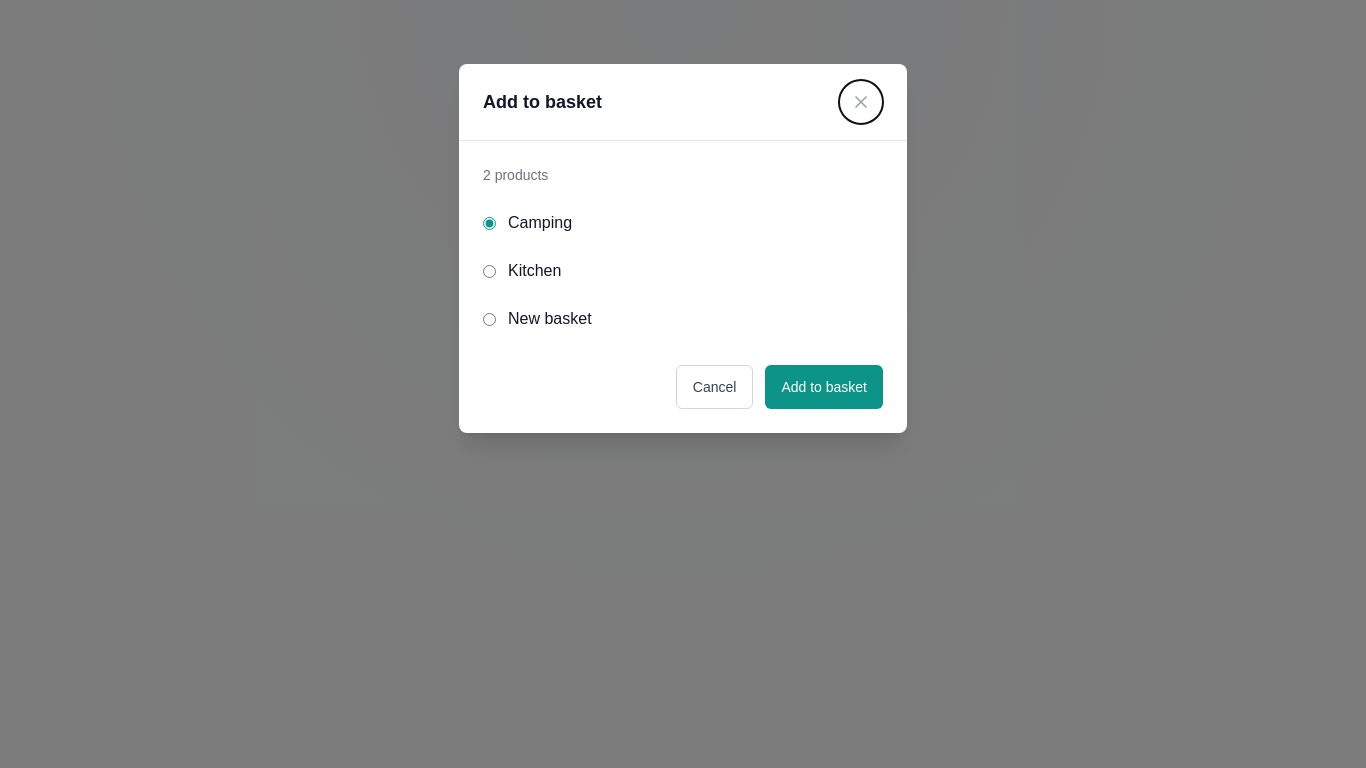
Test: AddToBasketModal › should ask for a name when a new basket has none
Click the radio button labelled "New basket" at (490, 319), box [483,312,496,326]
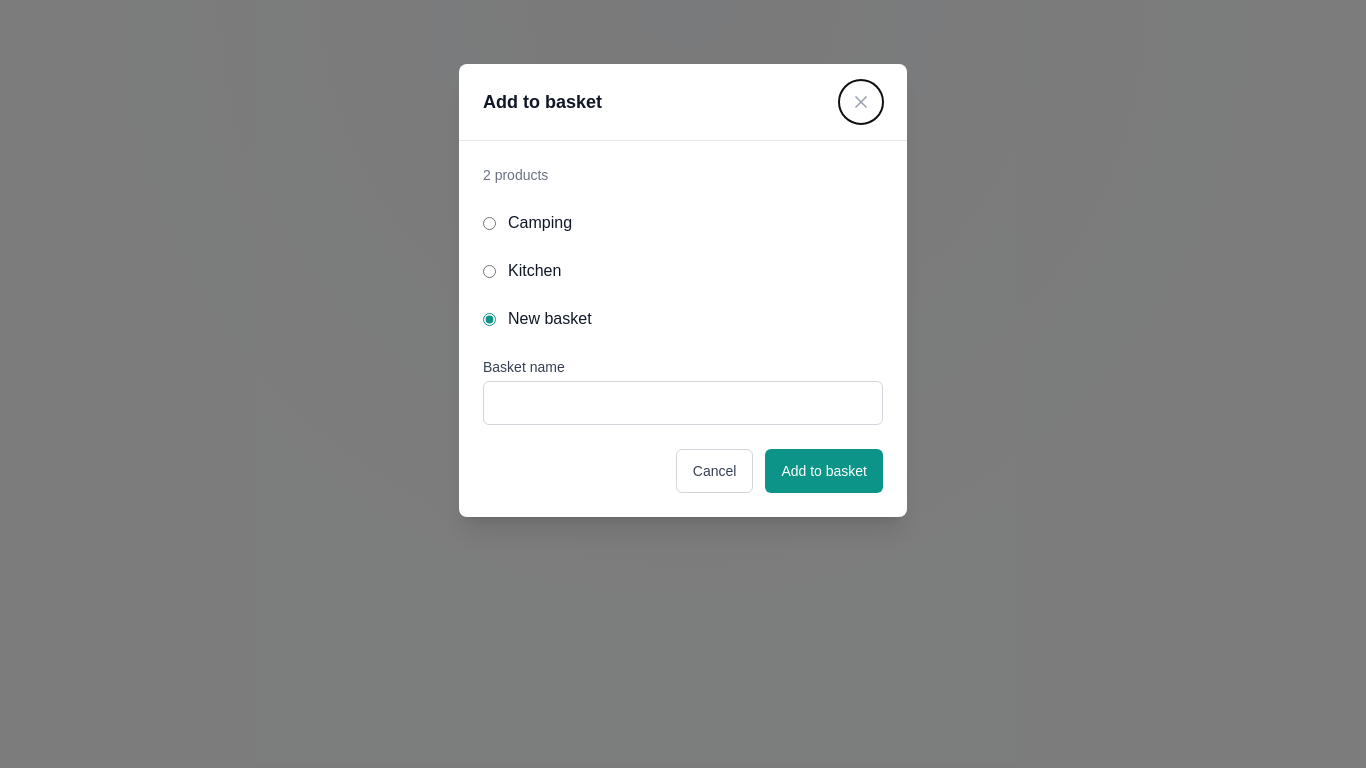
Click the button "Add to basket" at (824, 471), box [765,449,883,493]
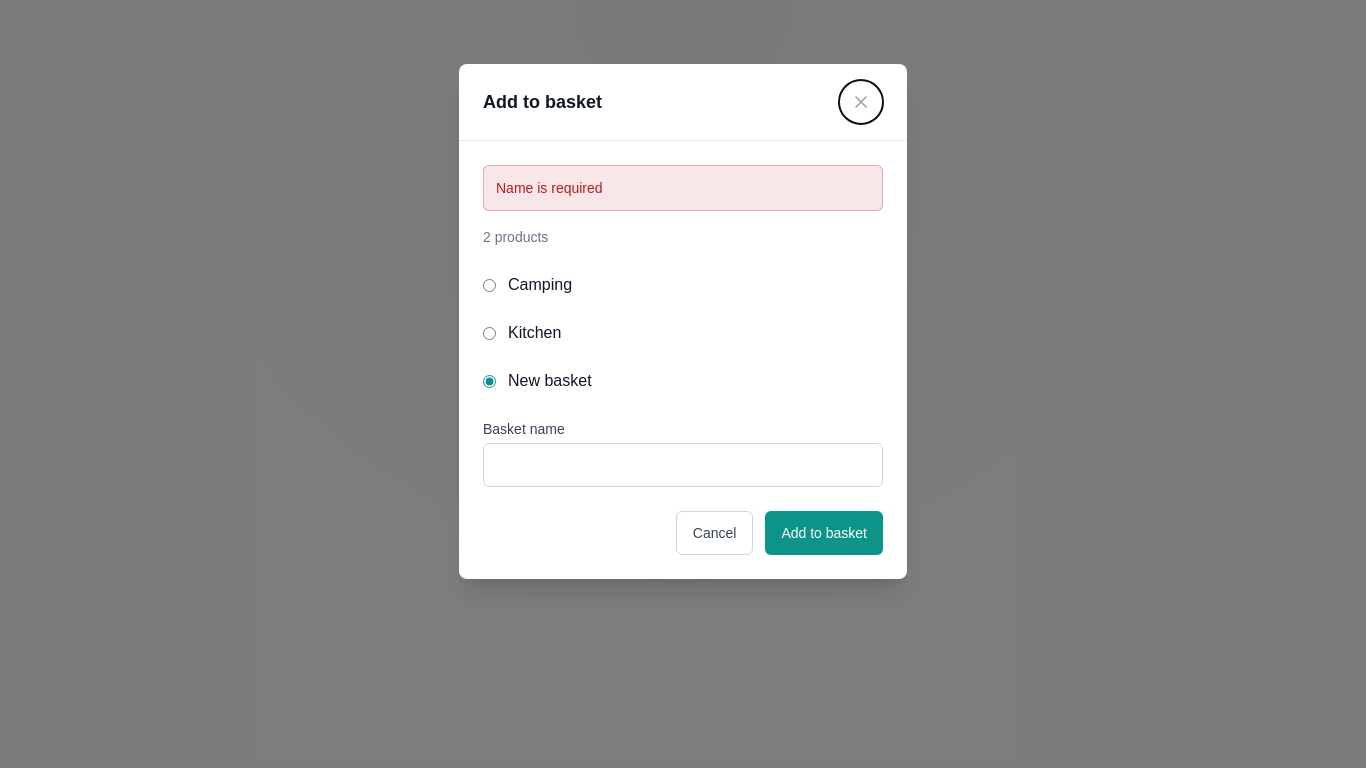
Now the text "Name is required" is shown, box [496,180,603,196]
